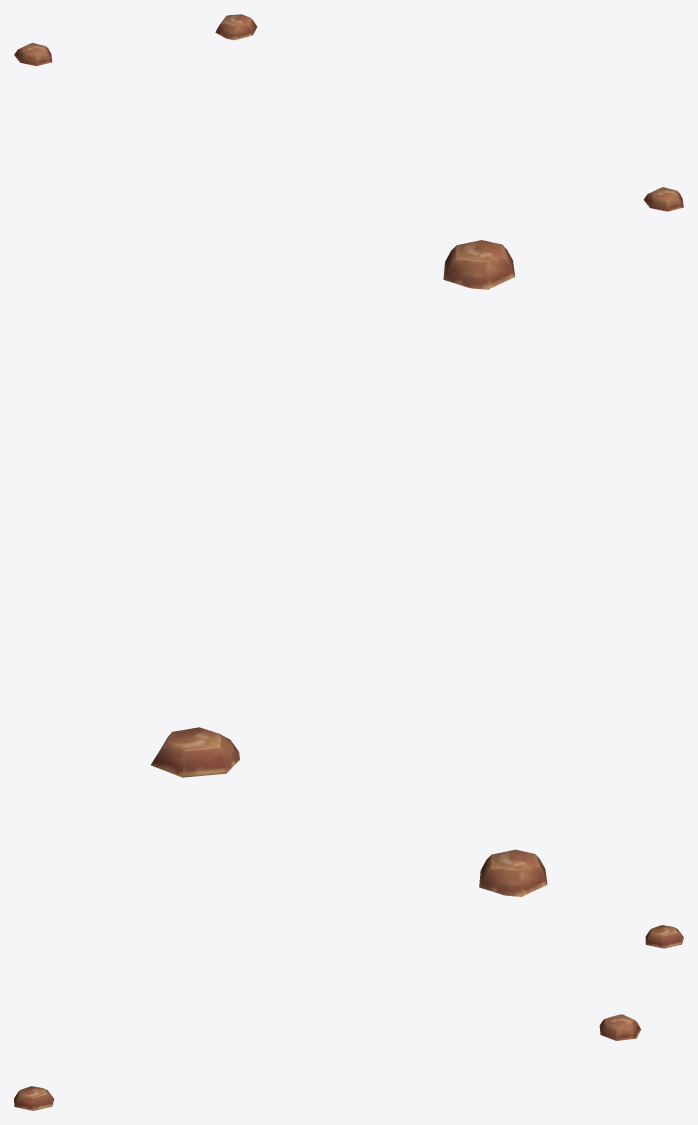
Rendered from shitou_shitou04.fbx.
The picture shows the model from 3 angles, top to bottom: view 1: azimuth 30°, elevation 25°; view 2: azimuth 150°, elevation 25°; view 3: azimuth 270°, elevation 25°; orthographic projection. The views are drawn at different scales.
Visible parts, largest first — view 1: shitou_shitou04; view 2: shitou_shitou04; view 3: shitou_shitou04.
Boxes of the visible parts, x1,y1,x2,y2 form: shitou_shitou04: (14,14,683,211); shitou_shitou04: (151,240,547,896); shitou_shitou04: (14,925,683,1110).
Size of the model in its own units: 2396 by 69.06 by 3789.
Materials: 1 (1 with a texture image).
